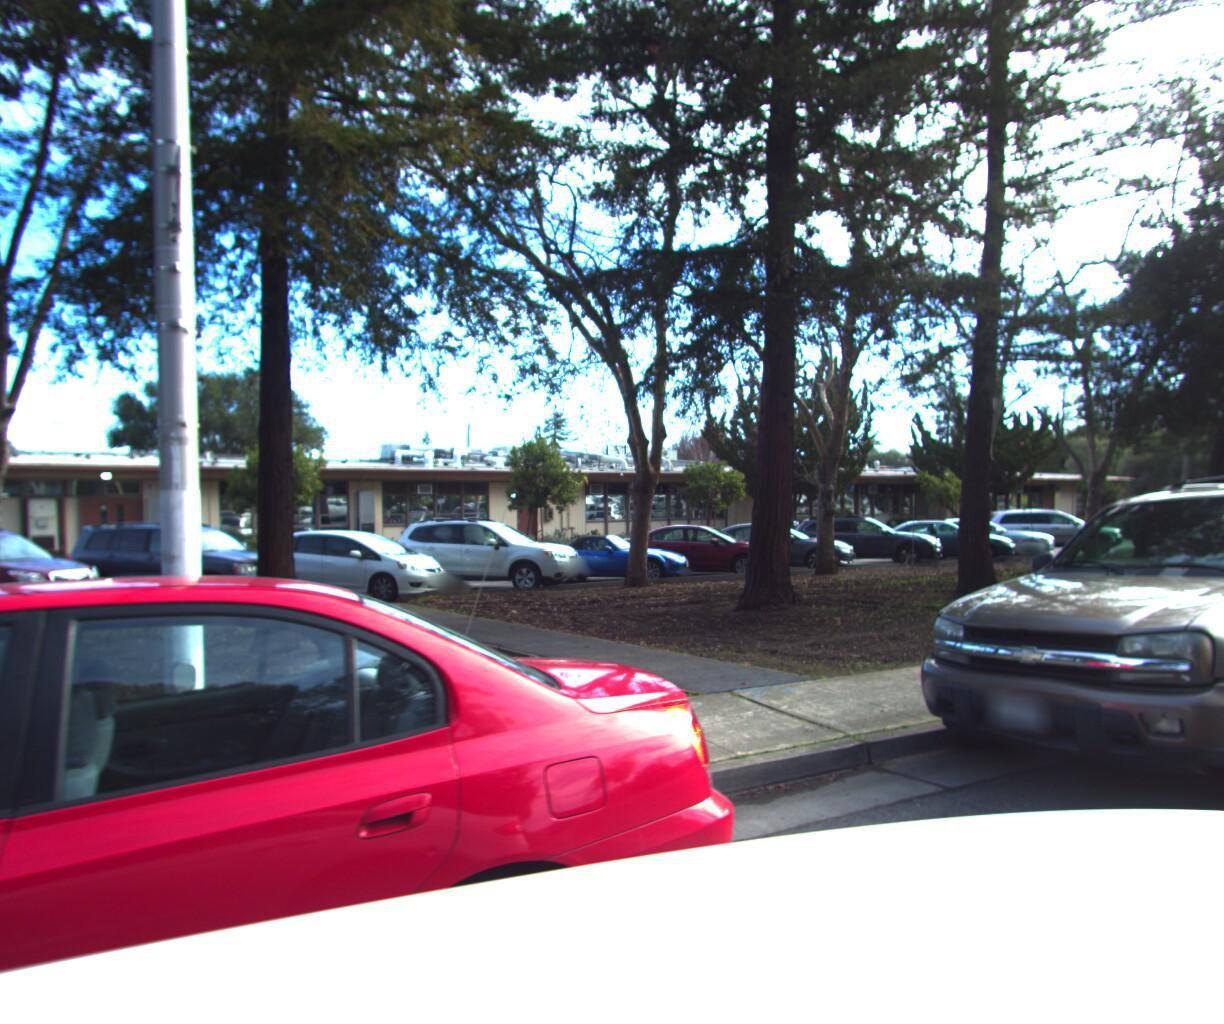car: (0, 530, 834, 1024), (888, 442, 1224, 890)
